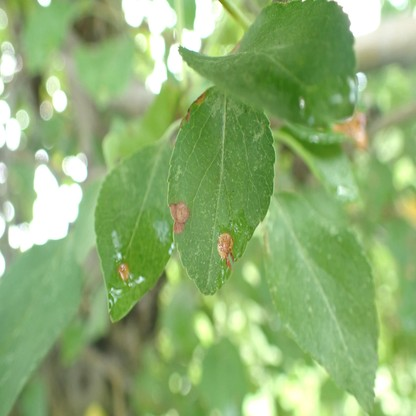frogeye_leaf_spot: (169, 201, 190, 234), (217, 233, 233, 268), (119, 262, 130, 284), (196, 93, 205, 102), (185, 108, 189, 122)
